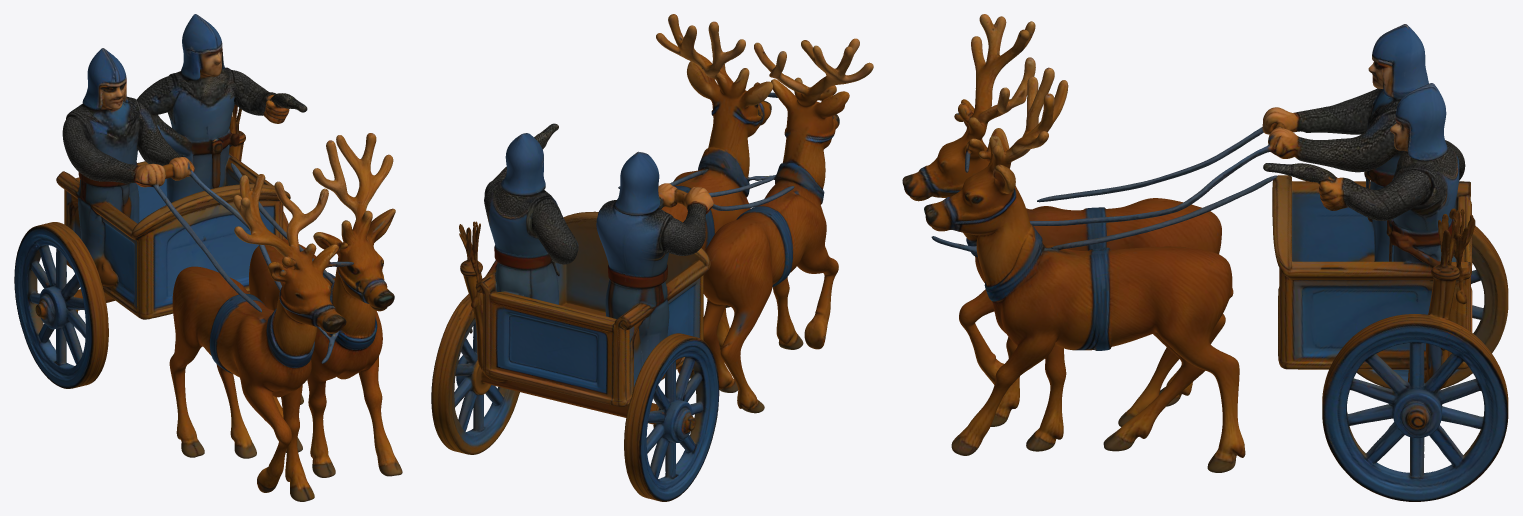
3 renders of one model, left to right at view 1: azimuth 30°, elevation 25°; view 2: azimuth 150°, elevation 25°; view 3: azimuth 270°, elevation 25°, orthographic. The views are drawn at different scales.
Parts seen in each view (by area): view 1: tripo_node_468fe3a0-0b4d-4568-b7e0-aec11001cd1b; view 2: tripo_node_468fe3a0-0b4d-4568-b7e0-aec11001cd1b; view 3: tripo_node_468fe3a0-0b4d-4568-b7e0-aec11001cd1b.
Part boxes in pixels (x1,y1,x2,y2): tripo_node_468fe3a0-0b4d-4568-b7e0-aec11001cd1b: [14, 14, 402, 501]; tripo_node_468fe3a0-0b4d-4568-b7e0-aec11001cd1b: [431, 14, 873, 501]; tripo_node_468fe3a0-0b4d-4568-b7e0-aec11001cd1b: [902, 14, 1508, 501].
Bounding box in the file's own units: 0.5293 × 0.7046 × 1.
Materials: 1 (1 with a texture image).
